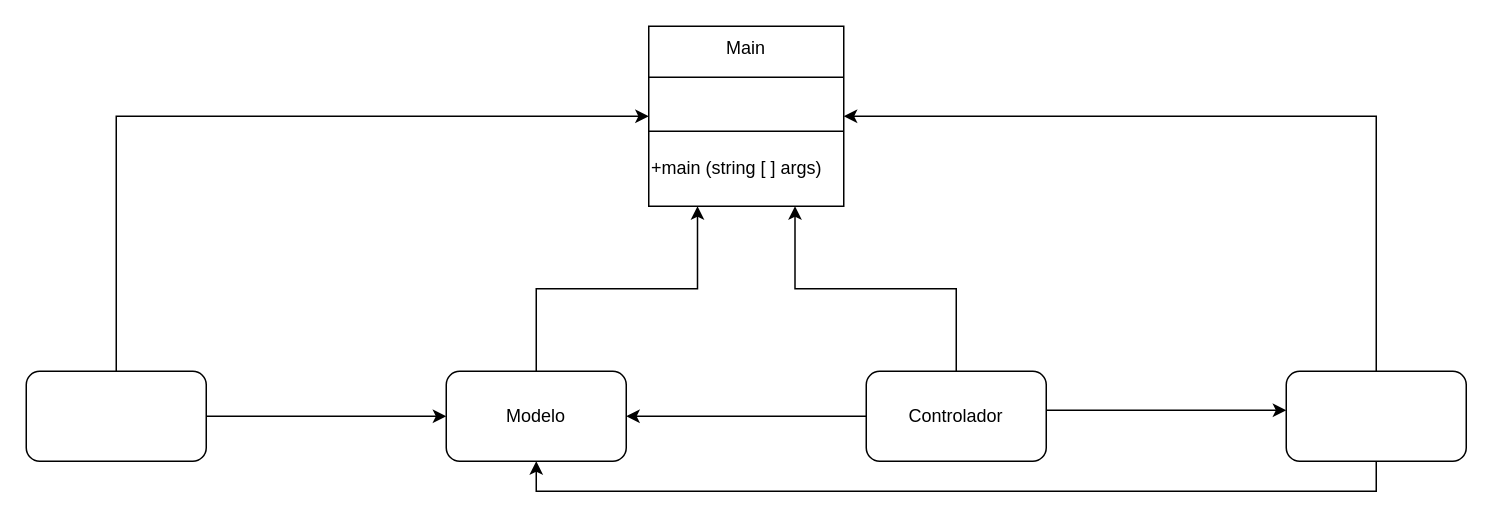
Image size: 1493x530. Some labels were removed from this diagram. The shapes that lost their labels are listed below. From the top down, each one's centre as x and y in pixels, then its label:
pixel 115 415: Persistencia
pixel 1375 415: Vista
